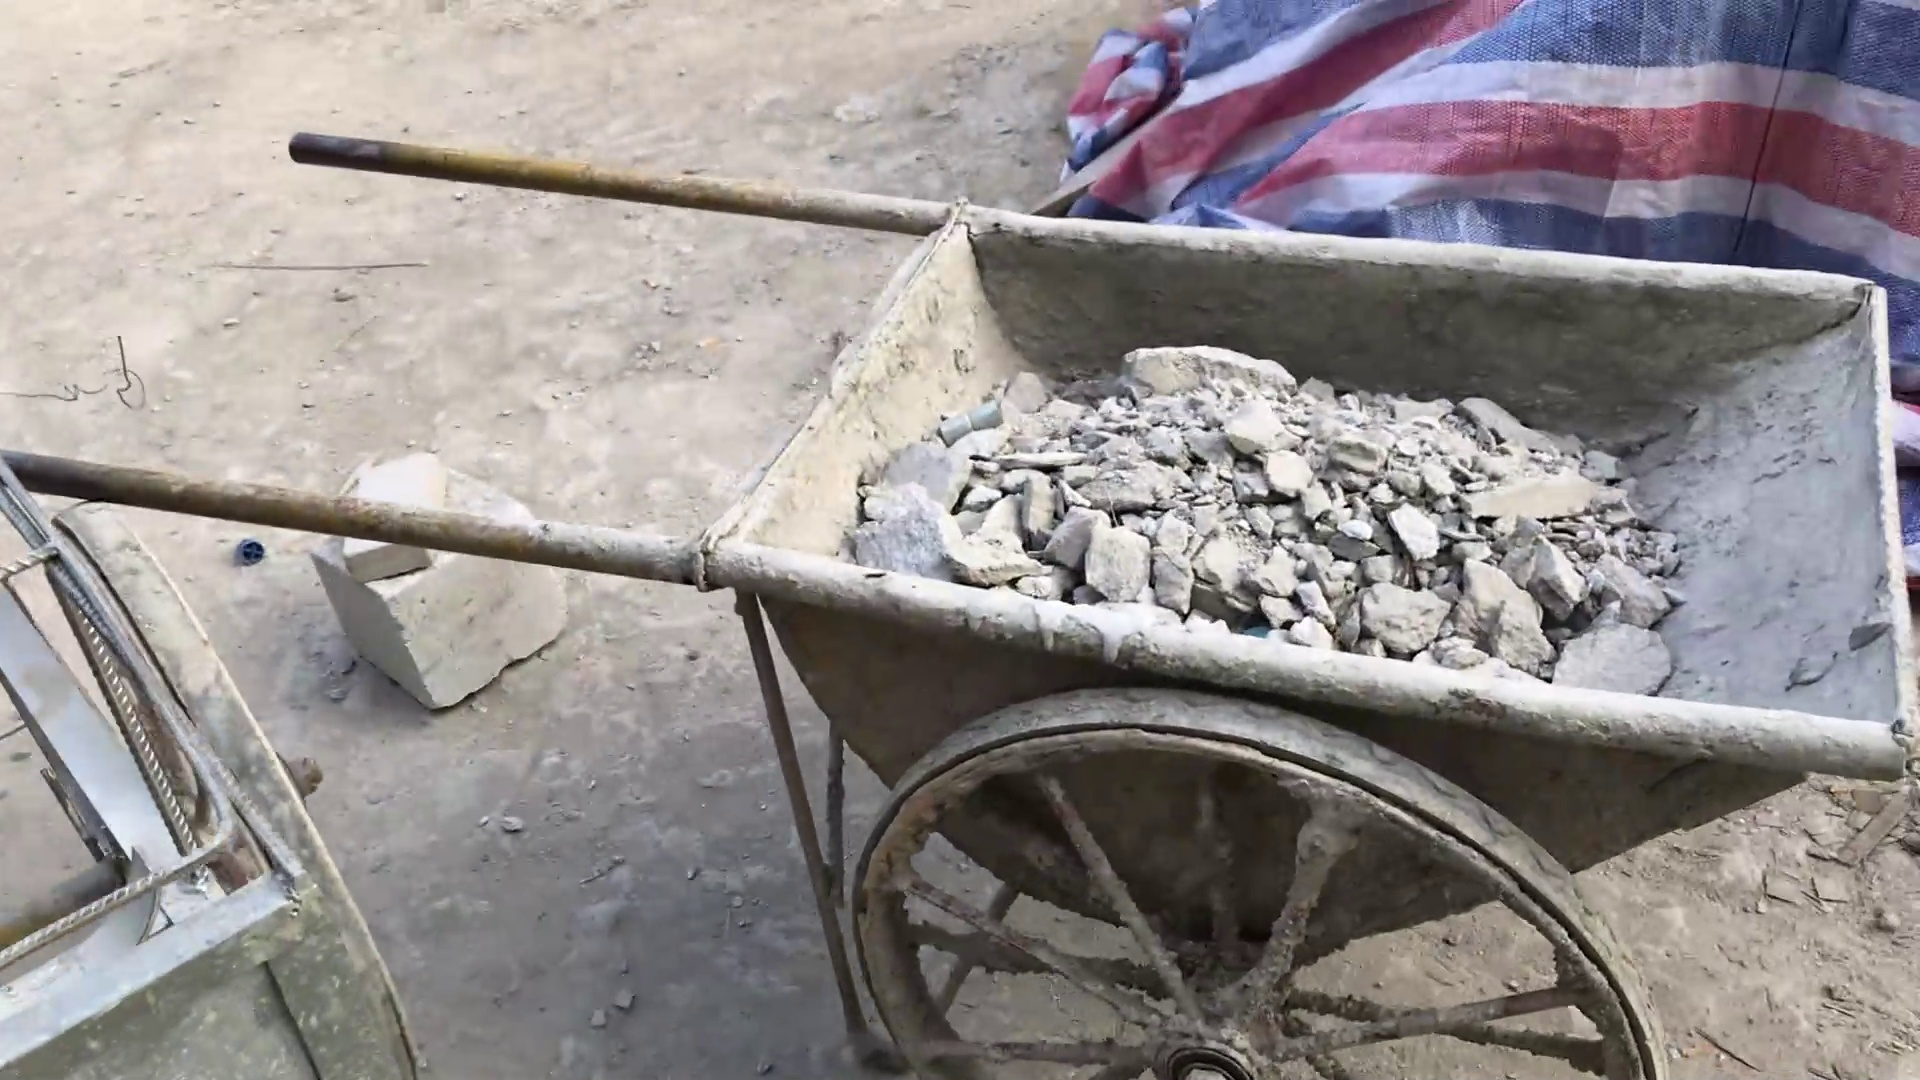handcart: (26, 102, 1907, 1080)
